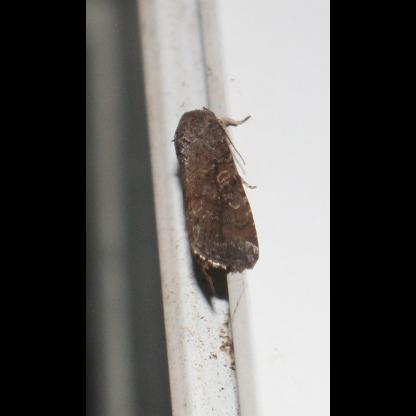Fall Armyworm Moth: (169, 104, 264, 302)
